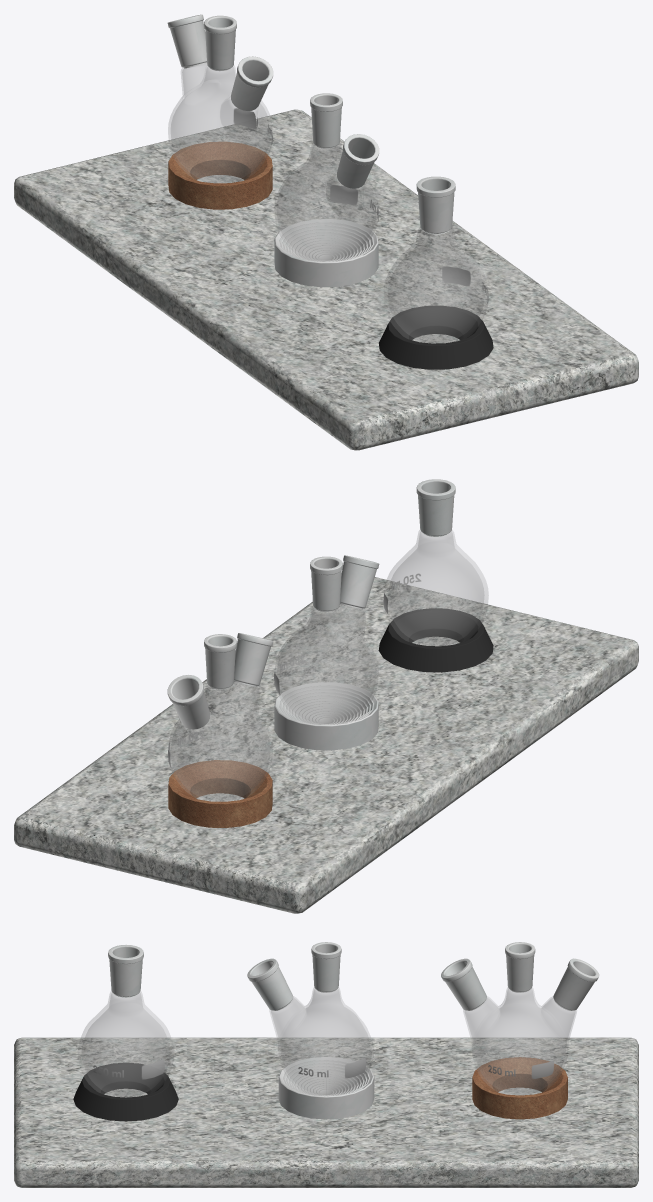
3 renders of one model, top to bottom at view 1: azimuth 30°, elevation 25°; view 2: azimuth 150°, elevation 25°; view 3: azimuth 270°, elevation 25°, orthographic. The views are drawn at different scales.
Visible parts, largest first — view 1: Granite, BalaoFundoRedondo_3Bocas, BalaoFundoRedondo_2Bocas, BalaoFundoRedondo_1Boca, BalaoFundoRedondo_3Bocas.002, BalaoFundoRedondo_3Bocas.001, BalaoFundoRedondo_3Bocas.003; view 2: Granite, BalaoFundoRedondo_3Bocas, BalaoFundoRedondo_2Bocas, BalaoFundoRedondo_1Boca, BalaoFundoRedondo_3Bocas.002, BalaoFundoRedondo_3Bocas.001, BalaoFundoRedondo_3Bocas.003; view 3: Granite, BalaoFundoRedondo_3Bocas, BalaoFundoRedondo_2Bocas, BalaoFundoRedondo_1Boca, BalaoFundoRedondo_3Bocas.002, BalaoFundoRedondo_3Bocas.001, BalaoFundoRedondo_3Bocas.003.
Boxes of the visible parts, left/top/right/bottom form: Granite: left=14, top=109, right=638, bottom=450; BalaoFundoRedondo_3Bocas: left=167, top=14, right=273, bottom=182; BalaoFundoRedondo_2Bocas: left=274, top=93, right=379, bottom=260; BalaoFundoRedondo_1Boca: left=384, top=176, right=488, bottom=343; BalaoFundoRedondo_3Bocas.002: left=274, top=219, right=378, bottom=287; BalaoFundoRedondo_3Bocas.001: left=168, top=141, right=272, bottom=209; BalaoFundoRedondo_3Bocas.003: left=378, top=305, right=493, bottom=369; Granite: left=14, top=577, right=638, bottom=913; BalaoFundoRedondo_3Bocas: left=167, top=633, right=273, bottom=801; BalaoFundoRedondo_2Bocas: left=274, top=555, right=379, bottom=723; BalaoFundoRedondo_1Boca: left=383, top=479, right=488, bottom=645; BalaoFundoRedondo_3Bocas.002: left=274, top=682, right=378, bottom=750; BalaoFundoRedondo_3Bocas.001: left=168, top=760, right=272, bottom=827; BalaoFundoRedondo_3Bocas.003: left=378, top=608, right=493, bottom=672; Granite: left=14, top=1037, right=638, bottom=1187; BalaoFundoRedondo_3Bocas: left=441, top=942, right=599, bottom=1094; BalaoFundoRedondo_2Bocas: left=247, top=942, right=373, bottom=1095; BalaoFundoRedondo_1Boca: left=78, top=944, right=173, bottom=1097; BalaoFundoRedondo_3Bocas.002: left=278, top=1056, right=374, bottom=1119; BalaoFundoRedondo_3Bocas.001: left=472, top=1057, right=567, bottom=1119; BalaoFundoRedondo_3Bocas.003: left=73, top=1062, right=178, bottom=1121.
Bounding box in the file's own units: 0.3149 × 0.2026 × 0.6436.
4 materials, 4 textured.
